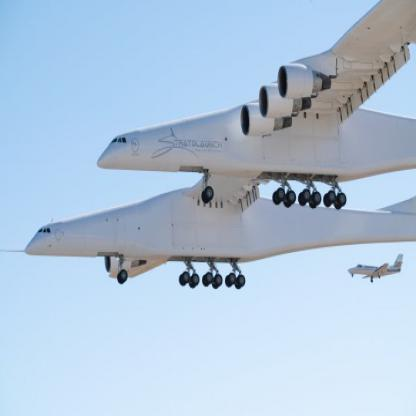CIV_Plane: (17, 0, 416, 306), (346, 252, 405, 288)
